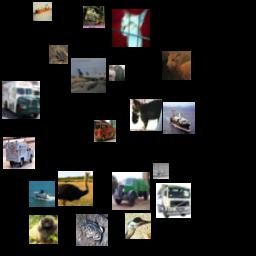airplane: (71, 58, 106, 93), (153, 163, 169, 179)
bird: (58, 171, 93, 206), (125, 213, 151, 239), (109, 65, 125, 81)
cat: (112, 9, 150, 47), (130, 99, 162, 131)
deer: (162, 51, 191, 80)
dog: (29, 215, 58, 244)
frog: (76, 214, 108, 246), (83, 6, 105, 28), (49, 45, 68, 64)
ship: (163, 102, 195, 134), (29, 181, 55, 207), (33, 2, 52, 21)
truck: (112, 172, 150, 210), (2, 81, 40, 119), (156, 183, 191, 218), (3, 137, 35, 169), (94, 120, 116, 142)
